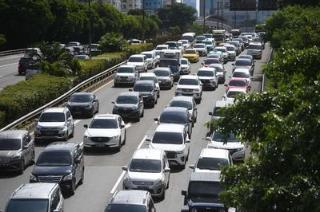mobil: (33, 143, 85, 197), (122, 140, 170, 198), (150, 123, 192, 172), (82, 112, 128, 154), (34, 106, 76, 142), (60, 90, 101, 117), (113, 90, 143, 124), (110, 65, 142, 89)
